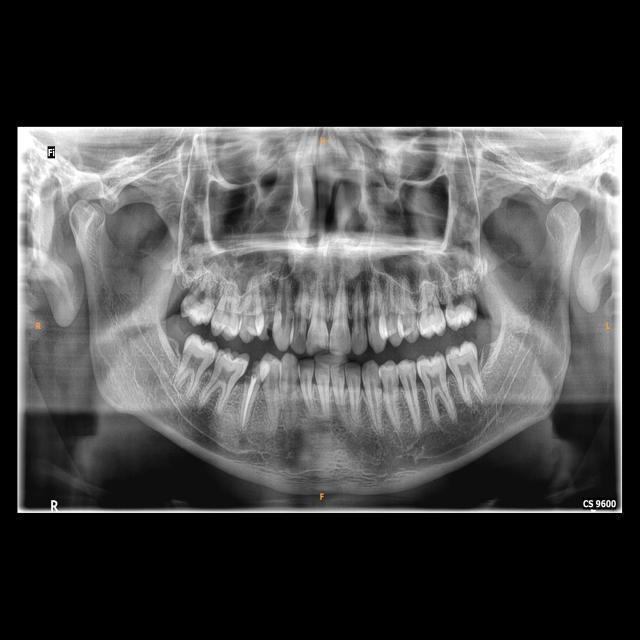dentin-curugu: (244, 360, 260, 384), (461, 289, 474, 308)
kanal-tedavisi: (240, 378, 256, 426)
